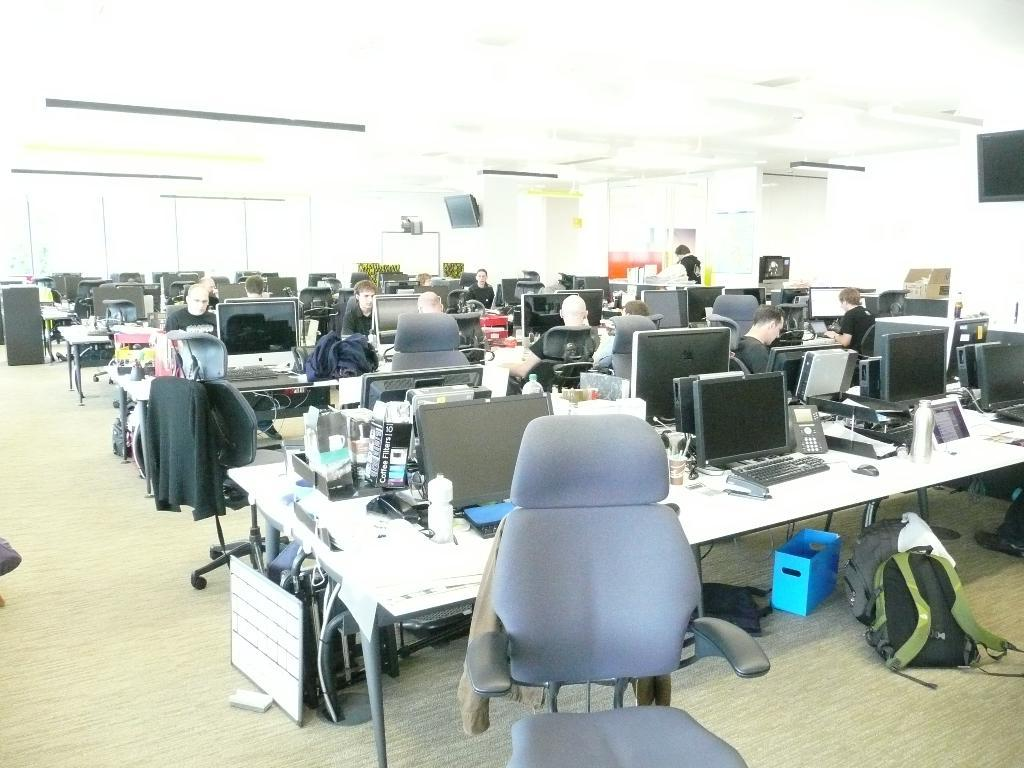Chair: (472, 424, 718, 765), (148, 333, 286, 588), (511, 325, 598, 396), (388, 310, 467, 376), (88, 299, 141, 380), (599, 311, 656, 378), (858, 289, 911, 358), (701, 316, 751, 374), (701, 294, 755, 336), (506, 283, 543, 320), (769, 301, 803, 341), (445, 287, 466, 312), (170, 280, 192, 298), (342, 295, 358, 311), (520, 269, 541, 280), (182, 284, 191, 301)
